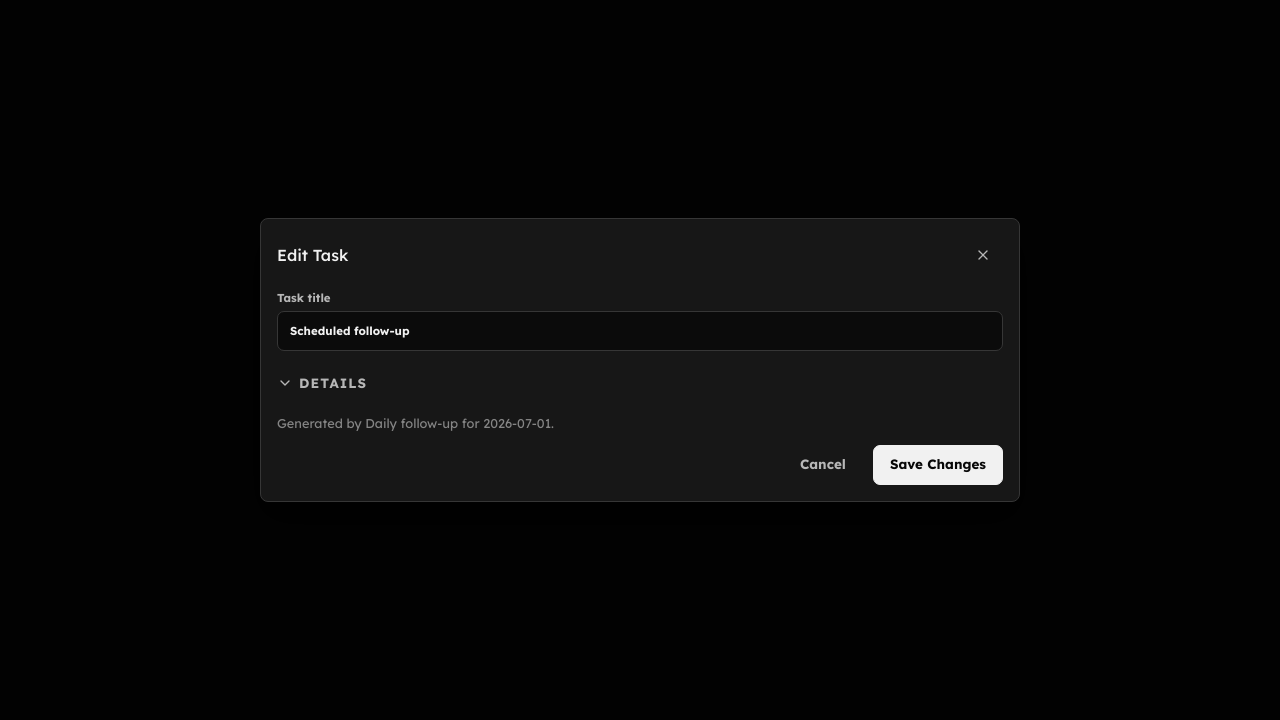
Test: TaskEditor › keeps a generated Schedule Task editor open and explains a failed save
Replace the text in the field labelled "Task title" with "Still editing" at (640, 331), box x1=277 y1=311 x2=1003 y2=351
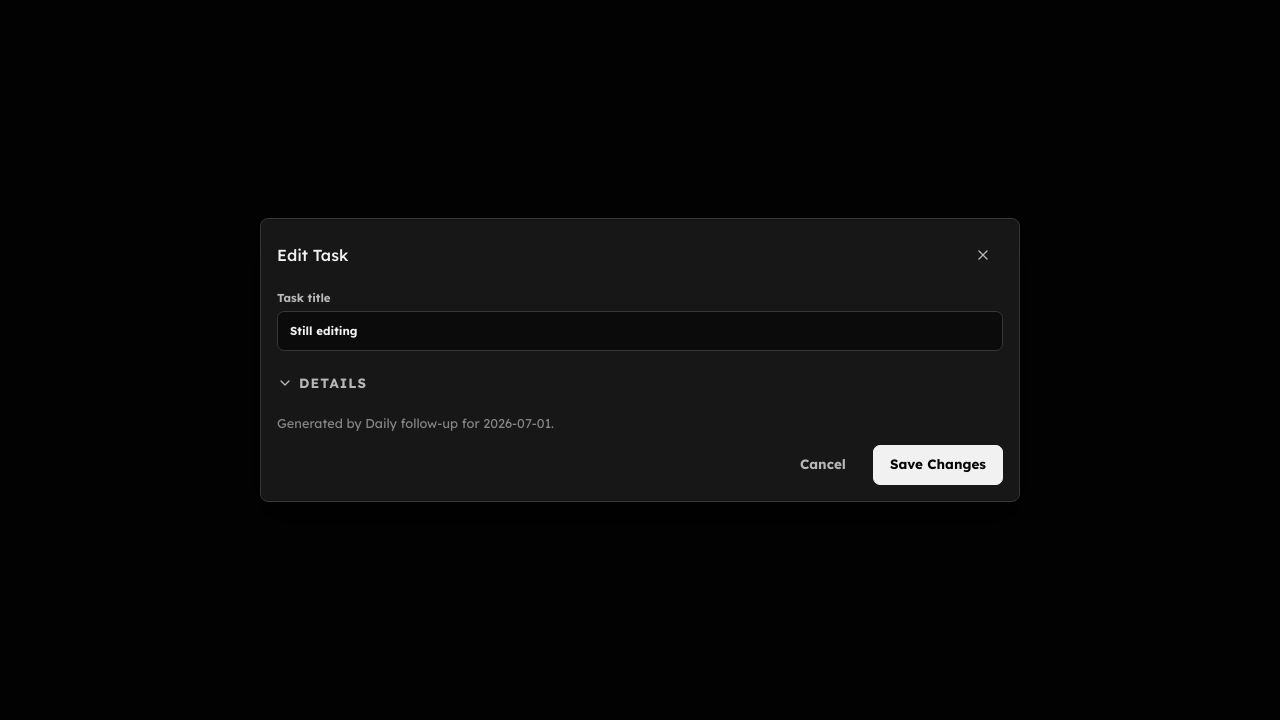
Click the button "Save Changes" at (938, 464), box x1=873 y1=444 x2=1003 y2=484
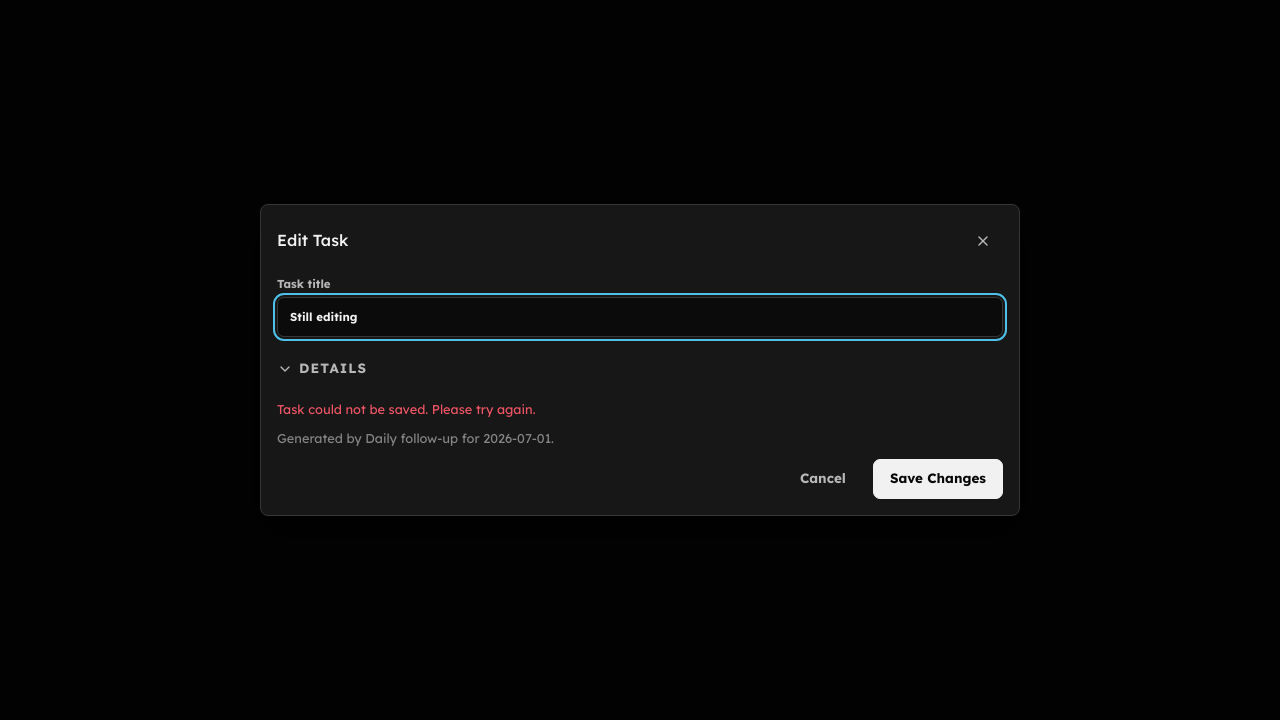
Check: the text "Task could not be saved. Please try again." is shown, box x1=277 y1=401 x2=536 y2=417
